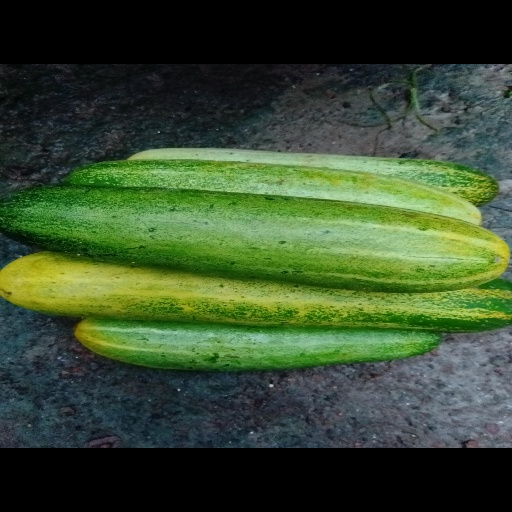concombre: (1, 184, 509, 294), (1, 250, 511, 333), (63, 160, 483, 226), (126, 147, 499, 206), (74, 317, 441, 371)
